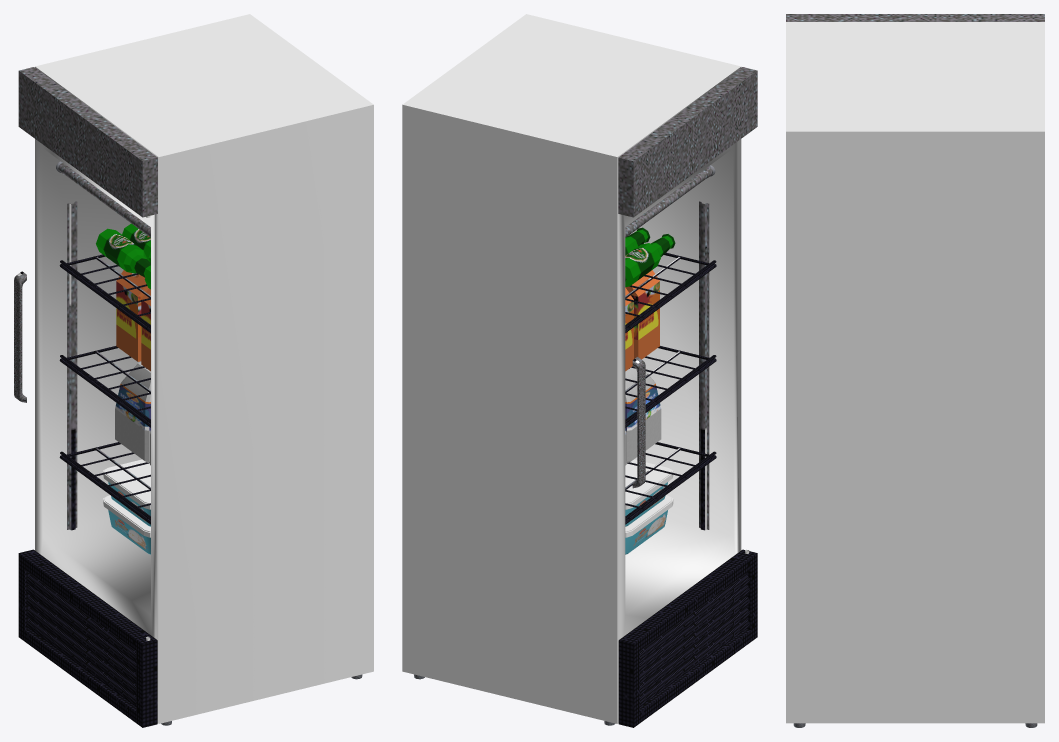
File: fridge.fbx
The picture shows the model from 3 angles, left to right: view 1: azimuth 30°, elevation 25°; view 2: azimuth 150°, elevation 25°; view 3: azimuth 270°, elevation 25°; orthographic projection. The views are drawn at different scales.
Parts seen in each view (by area): view 1: pCube1, pCube9, pCube10, pCube13, pCube38, icecream8, milk3, jug3, adultDrink12, Tray6, Tray5, Tray3 (+2 smaller); view 2: pCube1, pCube9, pCube10, pCube13, pCube42, icecream8, milk3, jug3, adultDrink12, Tray6, Tray3, Tray5 (+2 smaller); view 3: pCube1, pCube9.
Boxes of the visible parts, <box> form: pCube1: <box>35,14,373,723</box>; pCube9: <box>18,67,157,217</box>; pCube10: <box>18,549,157,727</box>; pCube13: <box>26,574,136,706</box>; pCube38: <box>67,201,77,530</box>; icecream8: <box>103,459,150,554</box>; milk3: <box>116,270,150,371</box>; jug3: <box>115,362,150,465</box>; adultDrink12: <box>96,223,150,289</box>; Tray6: <box>59,442,150,524</box>; Tray5: <box>59,346,150,427</box>; Tray3: <box>59,254,150,332</box>; pCube1: <box>402,14,741,723</box>; pCube9: <box>618,67,757,217</box>; pCube10: <box>618,549,757,727</box>; pCube13: <box>640,573,750,706</box>; pCube42: <box>699,201,709,530</box>; icecream8: <box>625,459,673,554</box>; milk3: <box>625,270,659,371</box>; jug3: <box>625,367,661,465</box>; adultDrink12: <box>625,227,675,286</box>; Tray6: <box>625,442,716,524</box>; Tray3: <box>625,252,716,332</box>; Tray5: <box>625,346,716,427</box>; pCube1: <box>786,22,1044,723</box>; pCube9: <box>786,14,1044,21</box>.
Bounding box in the file's own units: 0.9442 × 2.18 × 0.8544.
